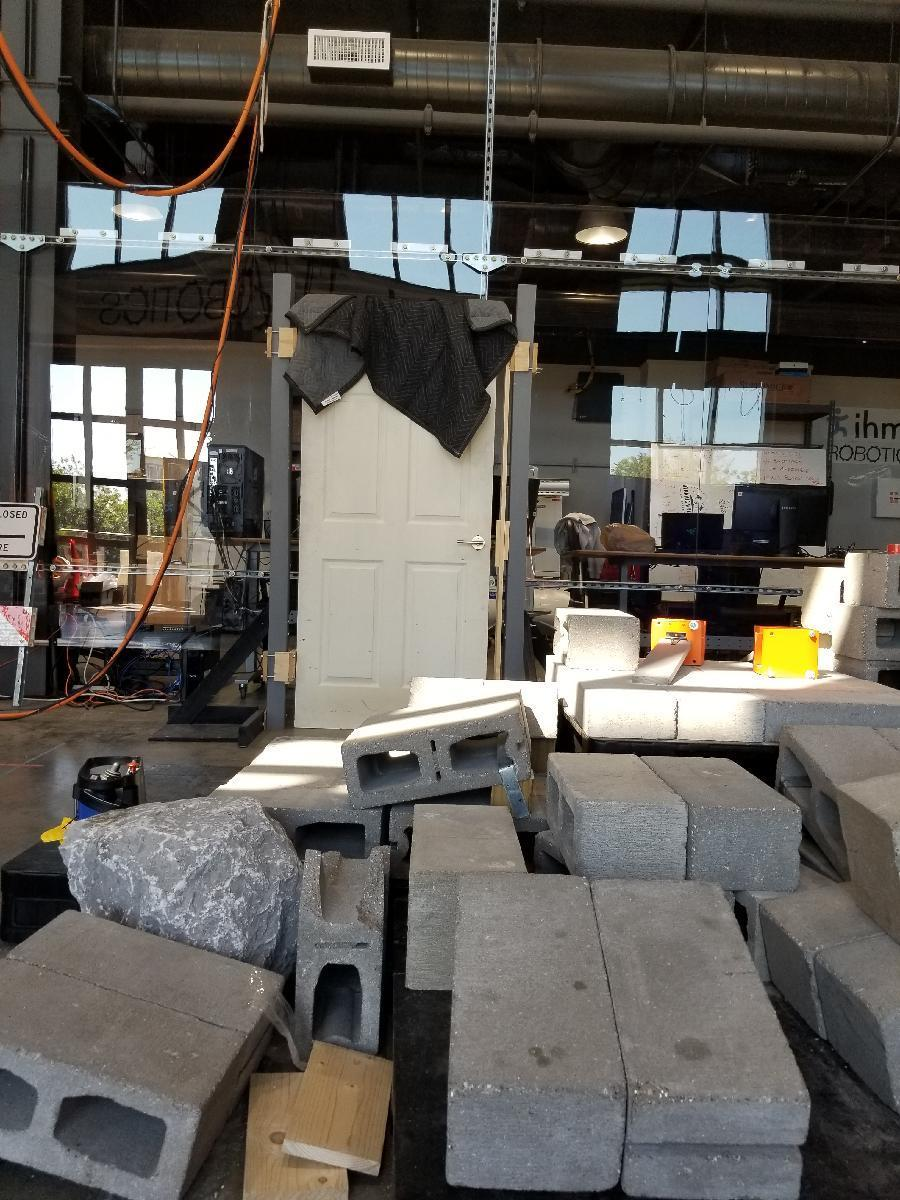door: (306, 326, 494, 733)
handle: (455, 533, 488, 552)
